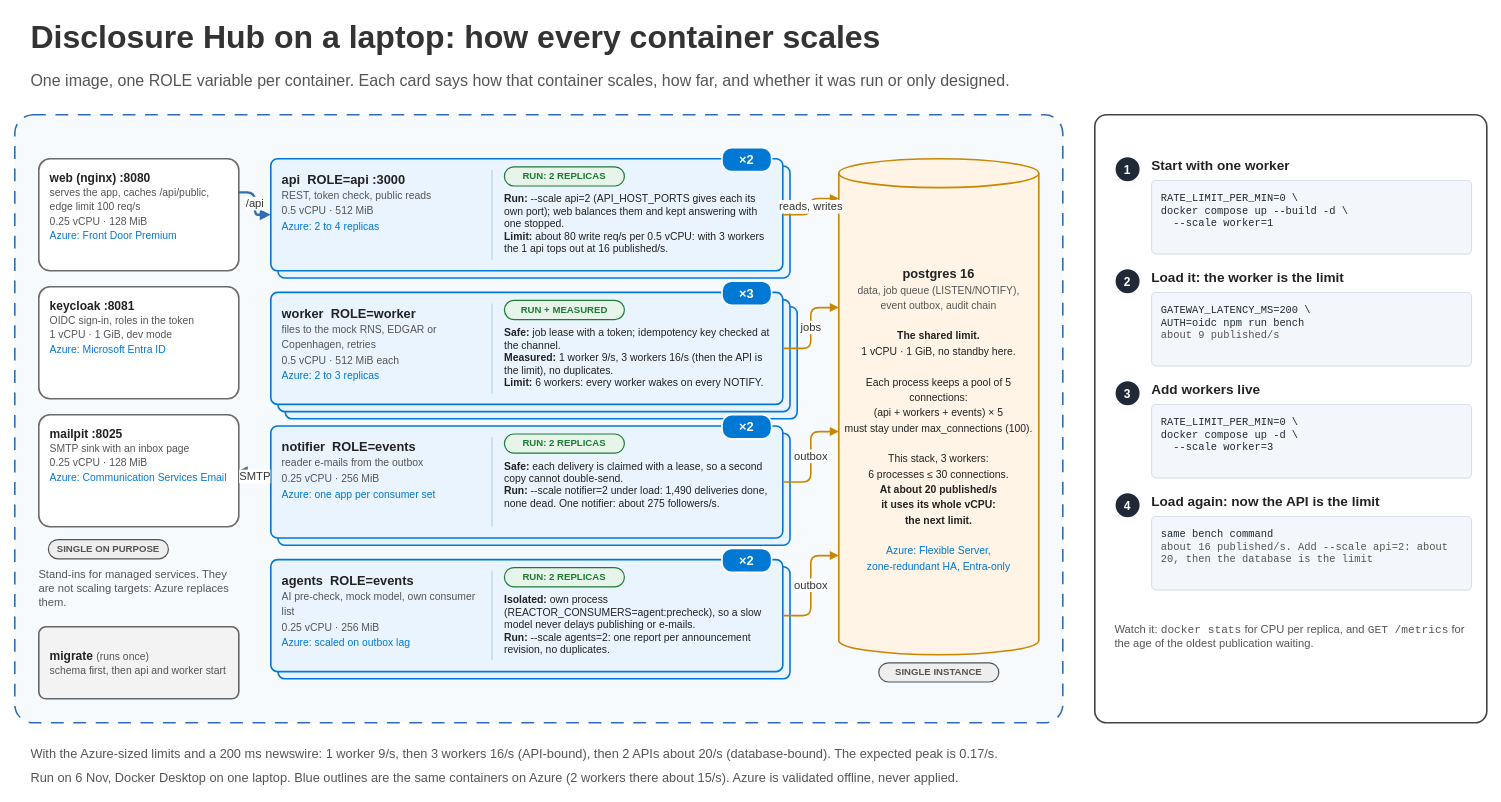
The diagram is 1501 pixels wide and 802 high, and some of its shapes have lost their labels. Each missing label, with the box of its shape:
docker compose up --scale worker=3 (one machine): (14, 114, 1063, 723)
Show it in four steps: (1094, 114, 1487, 723)
